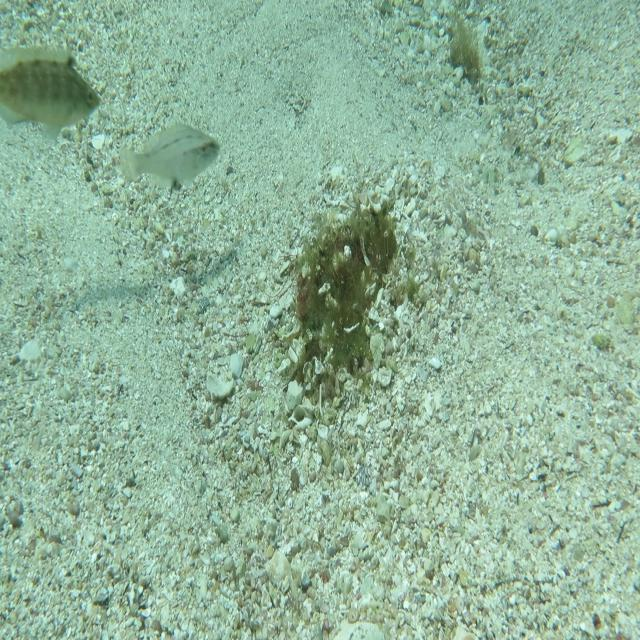CHASE_FLEE: (0, 42, 102, 142)
female: (117, 120, 222, 194)
nest: (272, 175, 417, 412)
